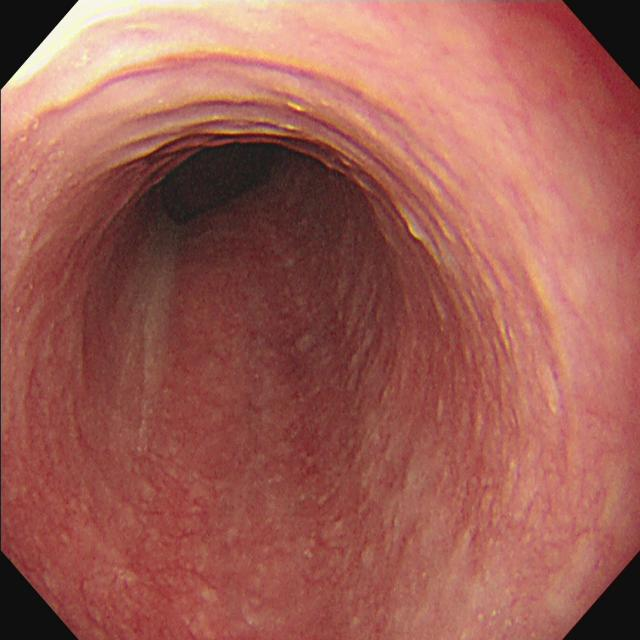E: (142, 131, 290, 233)
J: (122, 240, 179, 427)
